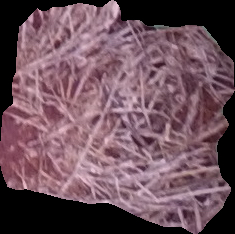soil: (1, 1, 234, 234)
